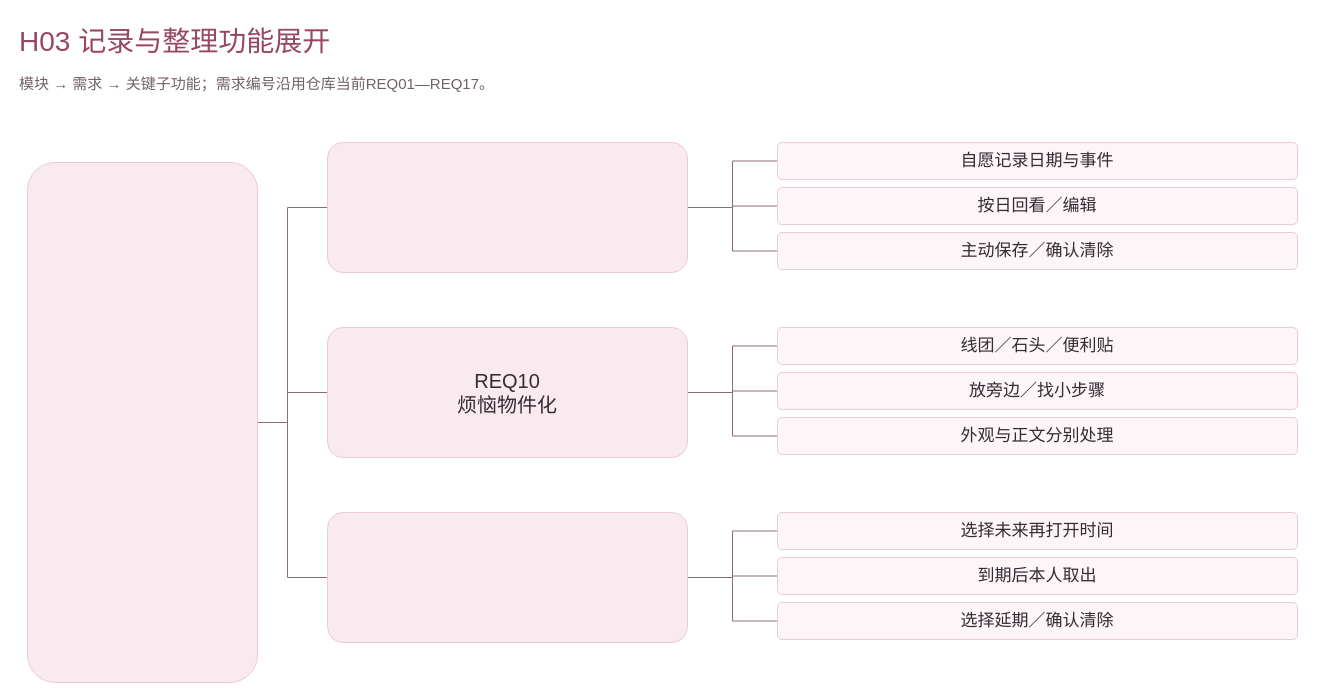
Image size: 1334x700. Some labels were removed from this diagram. Here are the shapes that lost their labels. From the top down, the centre of each, then its label:
At pixel 507 207: "REQ08 情绪与事件日历".
At pixel 142 422: "记录与整理".
At pixel 507 577: "REQ12 烦恼寄存所".
